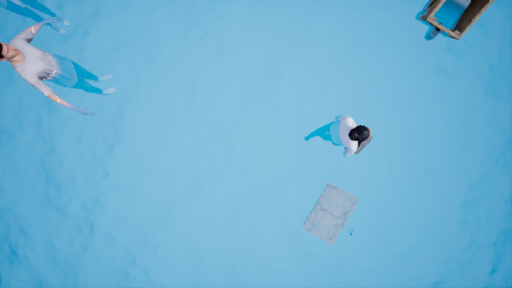person: (3, 23, 116, 117), (294, 110, 376, 159)
